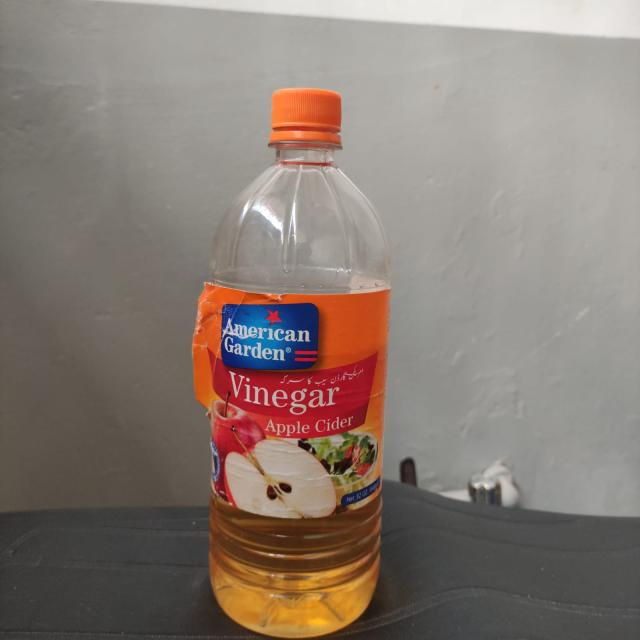bottle: (204, 85, 390, 640)
cap: (266, 93, 344, 154)
label: (210, 290, 385, 522)
